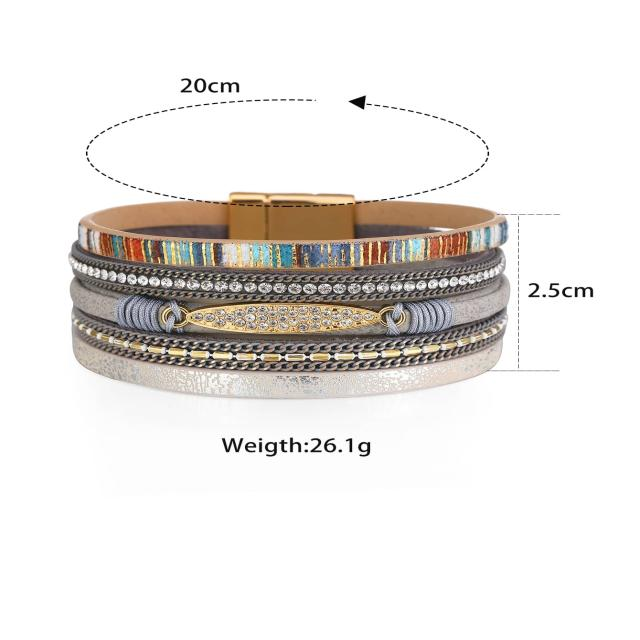bracelet: (35, 152, 596, 426)
